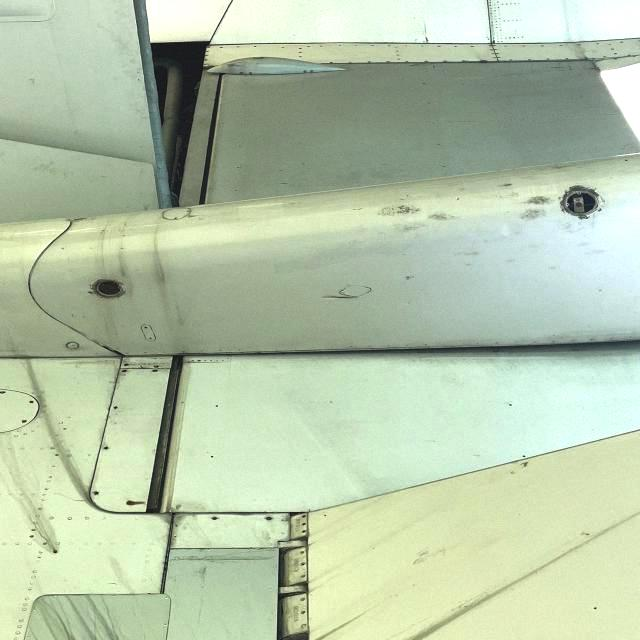crack: (318, 287, 356, 302)
